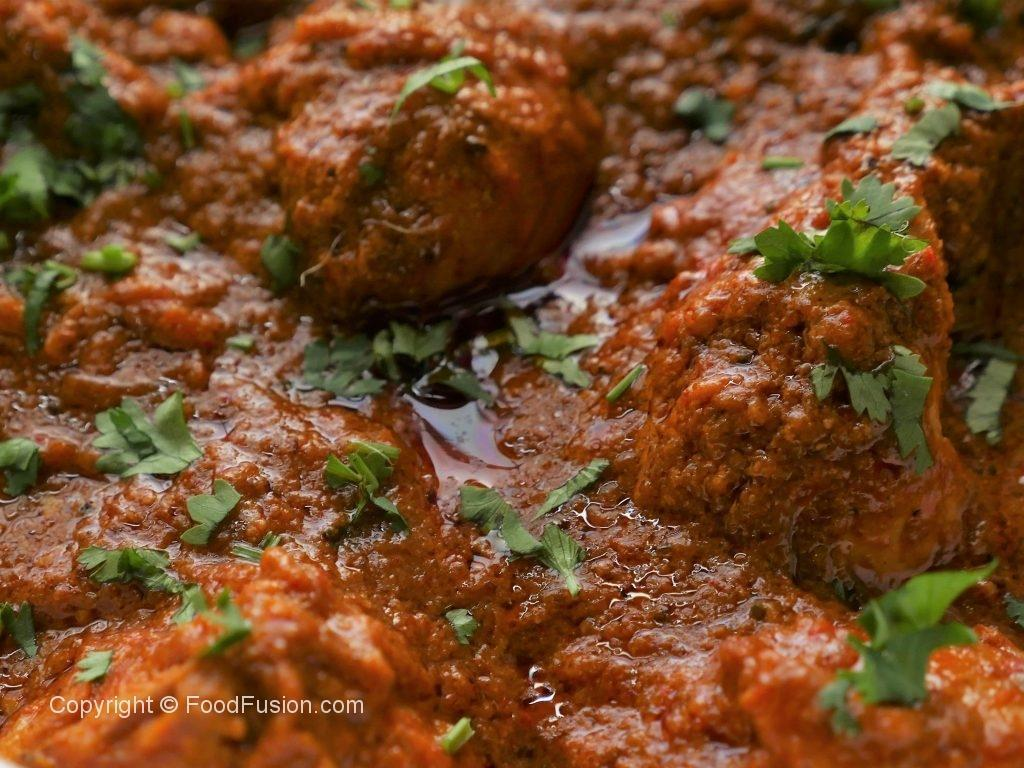chicken: (6, 11, 1024, 768)
